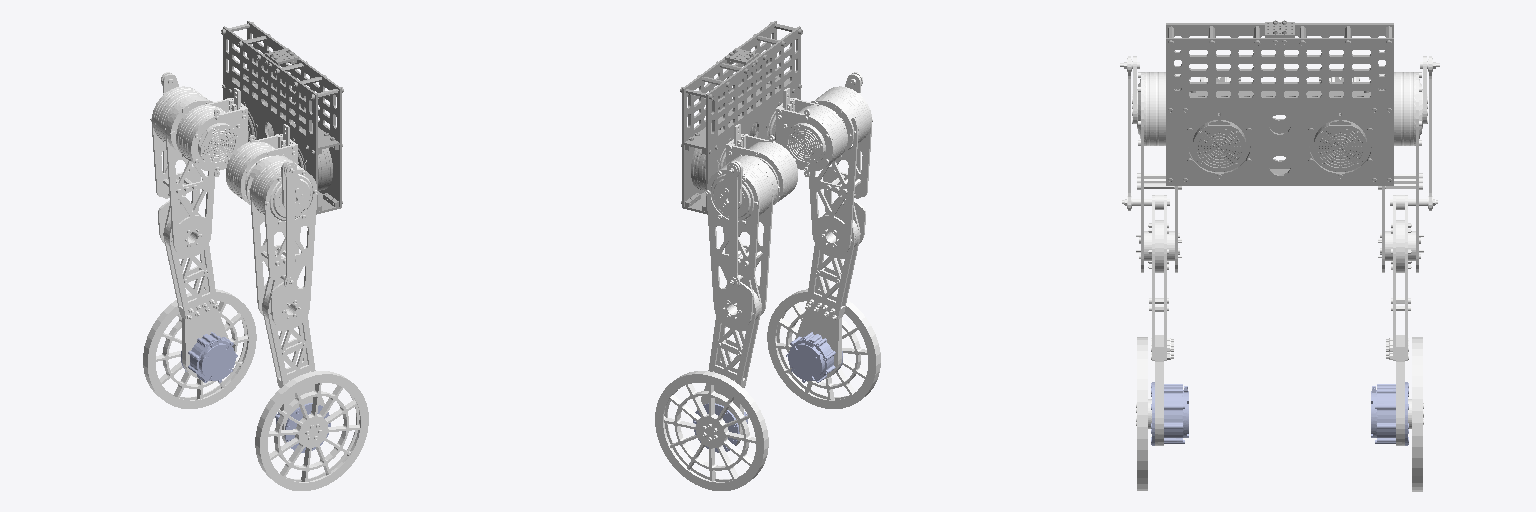
URDF robot description (CJ-003-wheelfoot):
<?xml version="1.0" encoding="utf-8"?>
<!-- This URDF was automatically created by SolidWorks to URDF Exporter! Originally created by [author] ([email redacted]) 
     Commit Version: 1.6.0-4-g7f85cfe  Build Version: 1.6.7995.38578
     For more information, please see http://wiki.ros.org/sw_urdf_exporter -->
<robot
  name="CJ-003-wheelfoot">
  <link
    name="base_link">
    <inertial>
      <origin
        xyz="-0.000956090713143542 -2.60410290767923E-05 -0.141363572462835"
        rpy="0 0 0" />
      <mass
        value="2.9787993" />
      <inertia
        ixx="0.0305221"
        ixy="0.0000023"
        ixz="-0.0000408"
        iyy="0.0090554"
        iyz="-0.0000010"
        izz="0.0231238" />
    </inertial>
    <visual>
      <origin
        xyz="0 0 0"
        rpy="0 0 0" />
      <geometry>
        <mesh
          filename="../meshes/base_link.STL" />
      </geometry>
      <material
        name="">
        <color
          rgba="0.752941176470588 0.752941176470588 0.752941176470588 1" />
      </material>
    </visual>
    <collision>
      <origin
        xyz="0 0 0"
        rpy="0 0 0" />
      <geometry>
        <mesh
          filename="../meshes/base_link.STL" />
      </geometry>
    </collision>
  </link>
  <link
    name="left_hip_Link">
    <inertial>
      <origin
        xyz="-0.0532214791628154 0.000924619503632623 -3.861639154671E-05"
        rpy="0 0 0" />
      <mass
        value="1.1161220" />
      <inertia
        ixx="0.0009754"
        ixy="0.0000059"
        ixz="-0.0000006"
        iyy="0.0015883"
        iyz="0.0000018"
        izz="0.0011149" />
    </inertial>
    <visual>
      <origin
        xyz="0 0 0"
        rpy="0 0 0" />
      <geometry>
        <mesh
          filename="../meshes/left_hip_Link.STL" />
      </geometry>
      <material
        name="">
        <color
          rgba="1 1 1 1" />
      </material>
    </visual>
    <collision>
      <origin
        xyz="0 0 0"
        rpy="0 0 0" />
      <geometry>
        <mesh
          filename="../meshes/left_hip_Link.STL" />
      </geometry>
    </collision>
  </link>
  <joint
    name="left_hip_joint"
    type="continuous">
    <origin
      xyz="-0.0301 0.08 -0.159"
      rpy="0 0 0" />
    <parent
      link="base_link" />
    <child
      link="left_hip_Link" />
    <axis
      xyz="1 0 0" />
  </joint>
  <link
    name="left_thigh_Link">
    <inertial>
      <origin
        xyz="-0.000961364581286359 0.0475914894303573 -0.03037352650229"
        rpy="0 0 0" />
      <mass
        value="1.8330795" />
      <inertia
        ixx="0.0146993"
        ixy="0.0000116"
        ixz="0.0000155"
        iyy="0.0148613"
        iyz="0.0001904"
        izz="0.0016331" />
    </inertial>
    <visual>
      <origin
        xyz="0 0 0"
        rpy="0 0 0" />
      <geometry>
        <mesh
          filename="../meshes/left_thigh_Link.STL" />
      </geometry>
      <material
        name="">
        <color
          rgba="1 1 1 1" />
      </material>
    </visual>
    <collision>
      <origin
        xyz="0 0 0"
        rpy="0 0 0" />
      <geometry>
        <mesh
          filename="../meshes/left_thigh_Link.STL" />
      </geometry>
    </collision>
  </link>
  <joint
    name="left_thigh_joint"
    type="continuous">
    <origin
      xyz="-0.059 0.0306 0"
      rpy="0 0 0" />
    <parent
      link="left_hip_Link" />
    <child
      link="left_thigh_Link" />
    <axis
      xyz="0 1 0" />
  </joint>
  <link
    name="left_calf_Link">
    <inertial>
      <origin
        xyz="0.0146820989379565 0.000189387958233284 -0.0832437152430494"
        rpy="0 0 0" />
      <mass
        value="0.3504867" />
      <inertia
        ixx="0.0030398"
        ixy="0.0000058"
        ixz="0.0005050"
        iyy="0.0032590"
        iyz="-0.0000329"
        izz="0.0002630" />
    </inertial>
    <visual>
      <origin
        xyz="0 0 0"
        rpy="0 0 0" />
      <geometry>
        <mesh
          filename="../meshes/left_calf_Link.STL" />
      </geometry>
      <material
        name="">
        <color
          rgba="1 1 1 1" />
      </material>
    </visual>
    <collision>
      <origin
        xyz="0 0 0"
        rpy="0 0 0" />
      <geometry>
        <mesh
          filename="../meshes/left_calf_Link.STL" />
      </geometry>
    </collision>
  </link>
  <joint
    name="left_calf_joint"
    type="continuous">
    <origin
      xyz="0 0.0489 -0.2"
      rpy="0 0 0" />
    <parent
      link="left_thigh_Link" />
    <child
      link="left_calf_Link" />
    <axis
      xyz="0 1 0" />
  </joint>
  <link
    name="left_wheel_motor_Link">
    <inertial>
      <origin
        xyz="-4.35905039354173E-05 -0.0283051890446785 0.000321501748152653"
        rpy="0 0 0" />
      <mass
        value="0.3388125" />
      <inertia
        ixx="0.0004322"
        ixy="0.0000892"
        ixz="0.0001616"
        iyy="0.0005795"
        iyz="-0.0001210"
        izz="0.0003278" />
    </inertial>
    <visual>
      <origin
        xyz="0 0 0"
        rpy="0 0 0" />
      <geometry>
        <mesh
          filename="../meshes/left_wheel_motor_Link.STL" />
      </geometry>
      <material
        name="">
        <color
          rgba="0.792156862745098 0.819607843137255 0.933333333333333 1" />
      </material>
    </visual>
    <collision>
      <origin
        xyz="0 0 0"
        rpy="0 0 0" />
      <geometry>
        <mesh
          filename="../meshes/left_wheel_motor_Link.STL" />
      </geometry>
    </collision>
  </link>
  <joint
    name="left_wheel_motor"
    type="fixed">
    <origin
      xyz="0.039939 0.013 -0.22651"
      rpy="0 0 0" />
    <parent
      link="left_calf_Link" />
    <child
      link="left_wheel_motor_Link" />
    <axis
      xyz="0 0 0" />
  </joint>
  <link
    name="left_wheel_Link">
    <inertial>
      <origin
        xyz="4.38867520640568E-05 0.00572402216281553 7.60706497344721E-05"
        rpy="0 0 0" />
      <mass
        value="0.5833639" />
      <inertia
        ixx="0.0015614"
        ixy="0.0000000"
        ixz="0.0000000"
        iyy="0.0030460"
        iyz="0.0000000"
        izz="0.0015614" />
    </inertial>
    <visual>
      <origin
        xyz="0 0 0"
        rpy="0 0 0" />
      <geometry>
        <mesh
          filename="../meshes/left_wheel_Link.STL" />
      </geometry>
      <material
        name="">
        <color
          rgba="1 1 1 1" />
      </material>
    </visual>
    <collision>
      <origin
        xyz="0 0 0"
        rpy="0 0 0" />
      <geometry>
        <mesh
          filename="../meshes/left_wheel_Link.STL" />
      </geometry>
    </collision>
  </link>
  <joint
    name="left_wheel_joint"
    type="continuous">
    <origin
      xyz="0 0 0"
      rpy="0 0 0" />
    <parent
      link="left_wheel_motor_Link" />
    <child
      link="left_wheel_Link" />
    <axis
      xyz="0 1 0" />
  </joint>
  <link
    name="right_hip_Link">
    <inertial>
      <origin
        xyz="-0.0532189397432775 -0.00117647536677837 3.83049136032515E-05"
        rpy="0 0 0" />
      <mass
        value="1.1161220" />
      <inertia
        ixx="0.0009754"
        ixy="-0.0000059"
        ixz="0.0000006"
        iyy="0.0015883"
        iyz="-0.0000018"
        izz="0.0011149" />
    </inertial>
    <visual>
      <origin
        xyz="0 0 0"
        rpy="0 0 0" />
      <geometry>
        <mesh
          filename="../meshes/right_hip_Link.STL" />
      </geometry>
      <material
        name="">
        <color
          rgba="1 1 1 1" />
      </material>
    </visual>
    <collision>
      <origin
        xyz="0 0 0"
        rpy="0 0 0" />
      <geometry>
        <mesh
          filename="../meshes/right_hip_Link.STL" />
      </geometry>
    </collision>
  </link>
  <joint
    name="right_hip_joint"
    type="continuous">
    <origin
      xyz="-0.0301 -0.08 -0.159"
      rpy="0 0 0" />
    <parent
      link="base_link" />
    <child
      link="right_hip_Link" />
    <axis
      xyz="1 0 0" />
  </joint>
  <link
    name="right_thigh_Link">
    <inertial>
      <origin
        xyz="-9.18182511895765E-05 -0.0473042683771448 -0.0238391998276769"
        rpy="0 0 0" />
      <mass
        value="1.8330795" />
      <inertia
        ixx="0.0146993"
        ixy="-0.0000390"
        ixz="-0.0000365"
        iyy="0.0148625"
        iyz="-0.0001904"
        izz="0.0016343" />
    </inertial>
    <visual>
      <origin
        xyz="0 0 0"
        rpy="0 0 0" />
      <geometry>
        <mesh
          filename="../meshes/right_thigh_Link.STL" />
      </geometry>
      <material
        name="">
        <color
          rgba="1 1 1 1" />
      </material>
    </visual>
    <collision>
      <origin
        xyz="0 0 0"
        rpy="0 0 0" />
      <geometry>
        <mesh
          filename="../meshes/right_thigh_Link.STL" />
      </geometry>
    </collision>
  </link>
  <joint
    name="right_thigh_joint"
    type="continuous">
    <origin
      xyz="-0.059 -0.0306 0"
      rpy="0 0 0" />
    <parent
      link="right_hip_Link" />
    <child
      link="right_thigh_Link" />
    <axis
      xyz="0 1 0" />
  </joint>
  <link
    name="right_calf_Link">
    <inertial>
      <origin
        xyz="0.0146743673886303 -0.000189387958234311 -0.0832450785238953"
        rpy="0 0 0" />
      <mass
        value="0.3504867" />
      <inertia
        ixx="0.0030396"
        ixy="-0.0000058"
        ixz="0.0005056"
        iyy="0.0032590"
        iyz="0.0000329"
        izz="0.0002632" />
    </inertial>
    <visual>
      <origin
        xyz="0 0 0"
        rpy="0 0 0" />
      <geometry>
        <mesh
          filename="../meshes/right_calf_Link.STL" />
      </geometry>
      <material
        name="">
        <color
          rgba="1 1 1 1" />
      </material>
    </visual>
    <collision>
      <origin
        xyz="0 0 0"
        rpy="0 0 0" />
      <geometry>
        <mesh
          filename="../meshes/right_calf_Link.STL" />
      </geometry>
    </collision>
  </link>
  <joint
    name="right_calf_joint"
    type="continuous">
    <origin
      xyz="0 -0.0489 -0.2"
      rpy="0 0 0" />
    <parent
      link="right_thigh_Link" />
    <child
      link="right_calf_Link" />
    <axis
      xyz="0 1 0" />
  </joint>
  <link
    name="right_wheel_motor_Link">
    <inertial>
      <origin
        xyz="-6.89982873501582E-05 0.0283051889454415 0.0003170215080191"
        rpy="0 0 0" />
      <mass
        value="0.3388125" />
      <inertia
        ixx="0.0005238"
        ixy="0.0000424"
        ixz="-0.0000902"
        iyy="0.0005795"
        iyz="0.0001442"
        izz="0.0002361" />
    </inertial>
    <visual>
      <origin
        xyz="0 0 0"
        rpy="0 0 0" />
      <geometry>
        <mesh
          filename="../meshes/right_wheel_motor_Link.STL" />
      </geometry>
      <material
        name="">
        <color
          rgba="0.792156862745098 0.819607843137255 0.933333333333333 1" />
      </material>
    </visual>
    <collision>
      <origin
        xyz="0 0 0"
        rpy="0 0 0" />
      <geometry>
        <mesh
          filename="../meshes/right_wheel_motor_Link.STL" />
      </geometry>
    </collision>
  </link>
  <joint
    name="right_wheel_motor"
    type="fixed">
    <origin
      xyz="0.039939 -0.013 -0.22651"
      rpy="0 0 0" />
    <parent
      link="right_calf_Link" />
    <child
      link="right_wheel_motor_Link" />
    <axis
      xyz="0 0 0" />
  </joint>
  <link
    name="right_wheel_Link">
    <inertial>
      <origin
        xyz="-3.18759211150807E-05 -0.00588304326474332 1.41521097852815E-05"
        rpy="0 0 0" />
      <mass
        value="0.5833639" />
      <inertia
        ixx="0.0015614"
        ixy="-0.0000001"
        ixz="0.0000000"
        iyy="0.0030460"
        iyz="0.0000000"
        izz="0.0015614" />
    </inertial>
    <visual>
      <origin
        xyz="0 0 0"
        rpy="0 0 0" />
      <geometry>
        <mesh
          filename="../meshes/right_wheel_Link.STL" />
      </geometry>
      <material
        name="">
        <color
          rgba="1 1 1 1" />
      </material>
    </visual>
    <collision>
      <origin
        xyz="0 0 0"
        rpy="0 0 0" />
      <geometry>
        <mesh
          filename="../meshes/right_wheel_Link.STL" />
      </geometry>
    </collision>
  </link>
  <joint
    name="right_wheel_joint"
    type="continuous">
    <origin
      xyz="0 0 0"
      rpy="0 0 0" />
    <parent
      link="right_wheel_motor_Link" />
    <child
      link="right_wheel_Link" />
    <axis
      xyz="0 1 0" />
  </joint>
</robot>

--- What the picture shows (computed from the rendered views, not written in the file) ---
Views: 3 orthographic renders of the robot side by side, from view 1: azimuth 30°, elevation 25°; view 2: azimuth 150°, elevation 25°; view 3: azimuth 270°, elevation 25°.
Robot: CJ-003-wheelfoot — 11 links, 10 joints (8 continuous, 2 fixed); root link base_link; default pose: every joint at zero.
Links seen in each view (by area): view 1: base_link, right_thigh_Link, right_wheel_Link, left_thigh_Link, left_wheel_Link, left_calf_Link, left_hip_Link, right_calf_Link, right_hip_Link, left_wheel_motor_Link; view 2: base_link, left_thigh_Link, left_wheel_Link, right_thigh_Link, right_wheel_Link, right_calf_Link, right_hip_Link, left_calf_Link, left_hip_Link, right_wheel_motor_Link; view 3: base_link, left_thigh_Link, right_thigh_Link, right_calf_Link, left_calf_Link, left_wheel_Link, right_wheel_Link, left_wheel_motor_Link, right_wheel_motor_Link.
Boxes of the visible links, x1=… form: base_link: x1=221, y1=21, x2=343, y2=214; right_thigh_Link: x1=246, y1=154, x2=318, y2=329; right_wheel_Link: x1=255, y1=371, x2=368, y2=490; left_thigh_Link: x1=150, y1=72, x2=214, y2=257; left_wheel_Link: x1=143, y1=289, x2=256, y2=408; left_calf_Link: x1=163, y1=194, x2=228, y2=378; left_hip_Link: x1=176, y1=88, x2=247, y2=176; right_calf_Link: x1=262, y1=275, x2=324, y2=443; right_hip_Link: x1=226, y1=124, x2=297, y2=204; left_wheel_motor_Link: x1=181, y1=332, x2=237, y2=382; base_link: x1=680, y1=21, x2=802, y2=214; left_thigh_Link: x1=705, y1=154, x2=779, y2=329; left_wheel_Link: x1=655, y1=371, x2=768, y2=490; right_thigh_Link: x1=809, y1=72, x2=872, y2=257; right_wheel_Link: x1=767, y1=289, x2=880, y2=408; right_calf_Link: x1=795, y1=194, x2=860, y2=378; right_hip_Link: x1=776, y1=88, x2=847, y2=176; left_calf_Link: x1=697, y1=275, x2=761, y2=445; left_hip_Link: x1=726, y1=124, x2=797, y2=204; right_wheel_motor_Link: x1=786, y1=332, x2=842, y2=382; base_link: x1=1166, y1=20, x2=1393, y2=185; left_thigh_Link: x1=1369, y1=56, x2=1439, y2=272; right_thigh_Link: x1=1120, y1=56, x2=1190, y2=272; right_calf_Link: x1=1122, y1=195, x2=1174, y2=445; left_calf_Link: x1=1385, y1=195, x2=1437, y2=445; left_wheel_Link: x1=1408, y1=337, x2=1423, y2=491; right_wheel_Link: x1=1136, y1=337, x2=1151, y2=490; left_wheel_motor_Link: x1=1371, y1=382, x2=1408, y2=445; right_wheel_motor_Link: x1=1151, y1=382, x2=1188, y2=445.
Bounding box of the posed robot: 0.2039 × 0.4222 × 0.6904 m (x, y, z).
11 mesh visuals loaded from 11 distinct referenced files (11 binary STL).